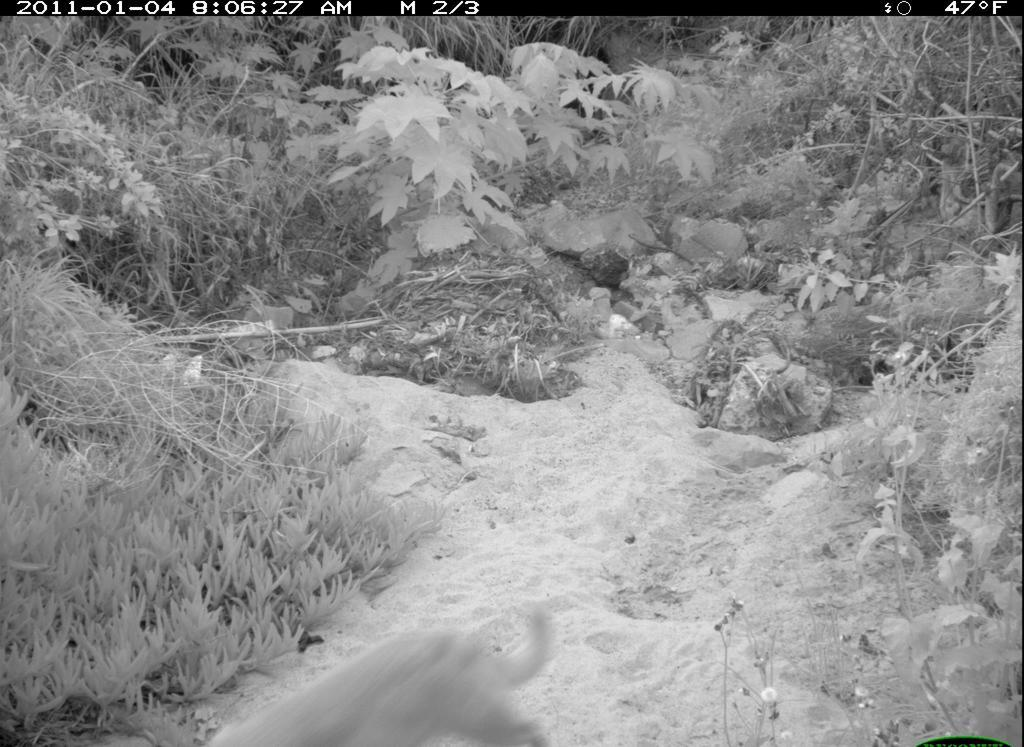dog: (189, 600, 559, 744)
